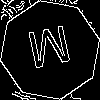M: (25, 25, 76, 79)
